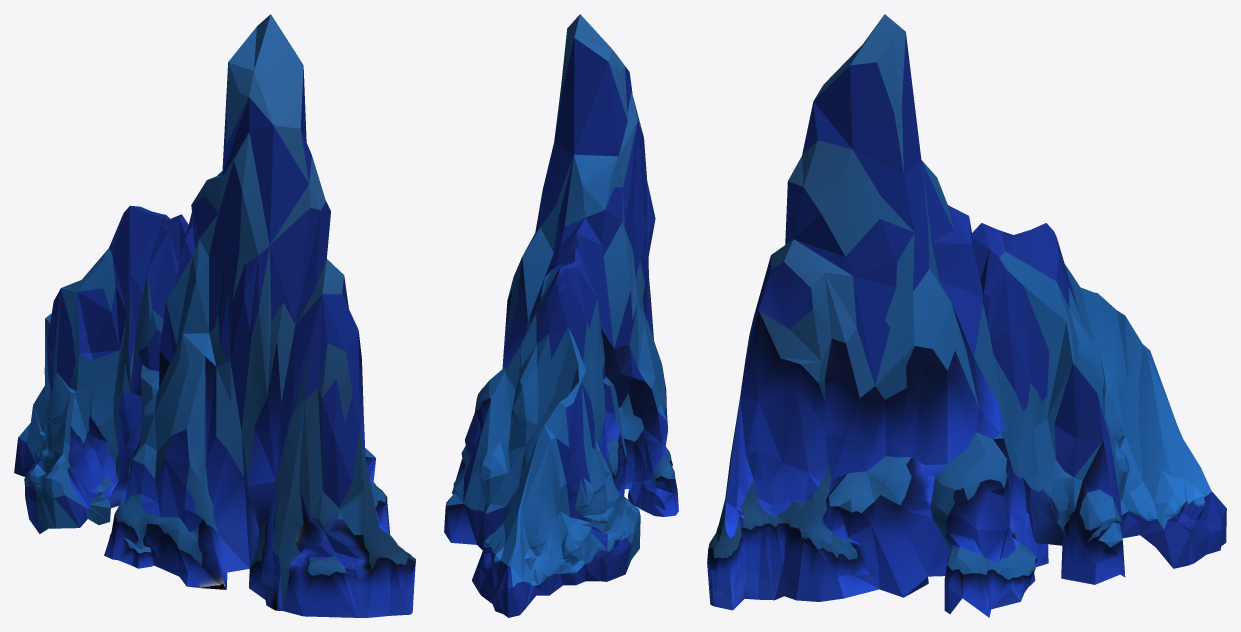
The model's file is Terrain_Mountain_1.fbx.
The picture shows the model from 3 angles, left to right: view 1: azimuth 30°, elevation 25°; view 2: azimuth 150°, elevation 25°; view 3: azimuth 270°, elevation 25°; orthographic projection. The views are drawn at different scales.
Visible parts, largest first — view 1: 1140201_mountain_001; view 2: 1140201_mountain_001; view 3: 1140201_mountain_001.
Part boxes in pixels (x1=…): 1140201_mountain_001: x1=14, y1=14, x2=415, y2=617; 1140201_mountain_001: x1=444, y1=14, x2=678, y2=617; 1140201_mountain_001: x1=707, y1=14, x2=1226, y2=617.
Size of the model in its own units: 312 by 680 by 561.
